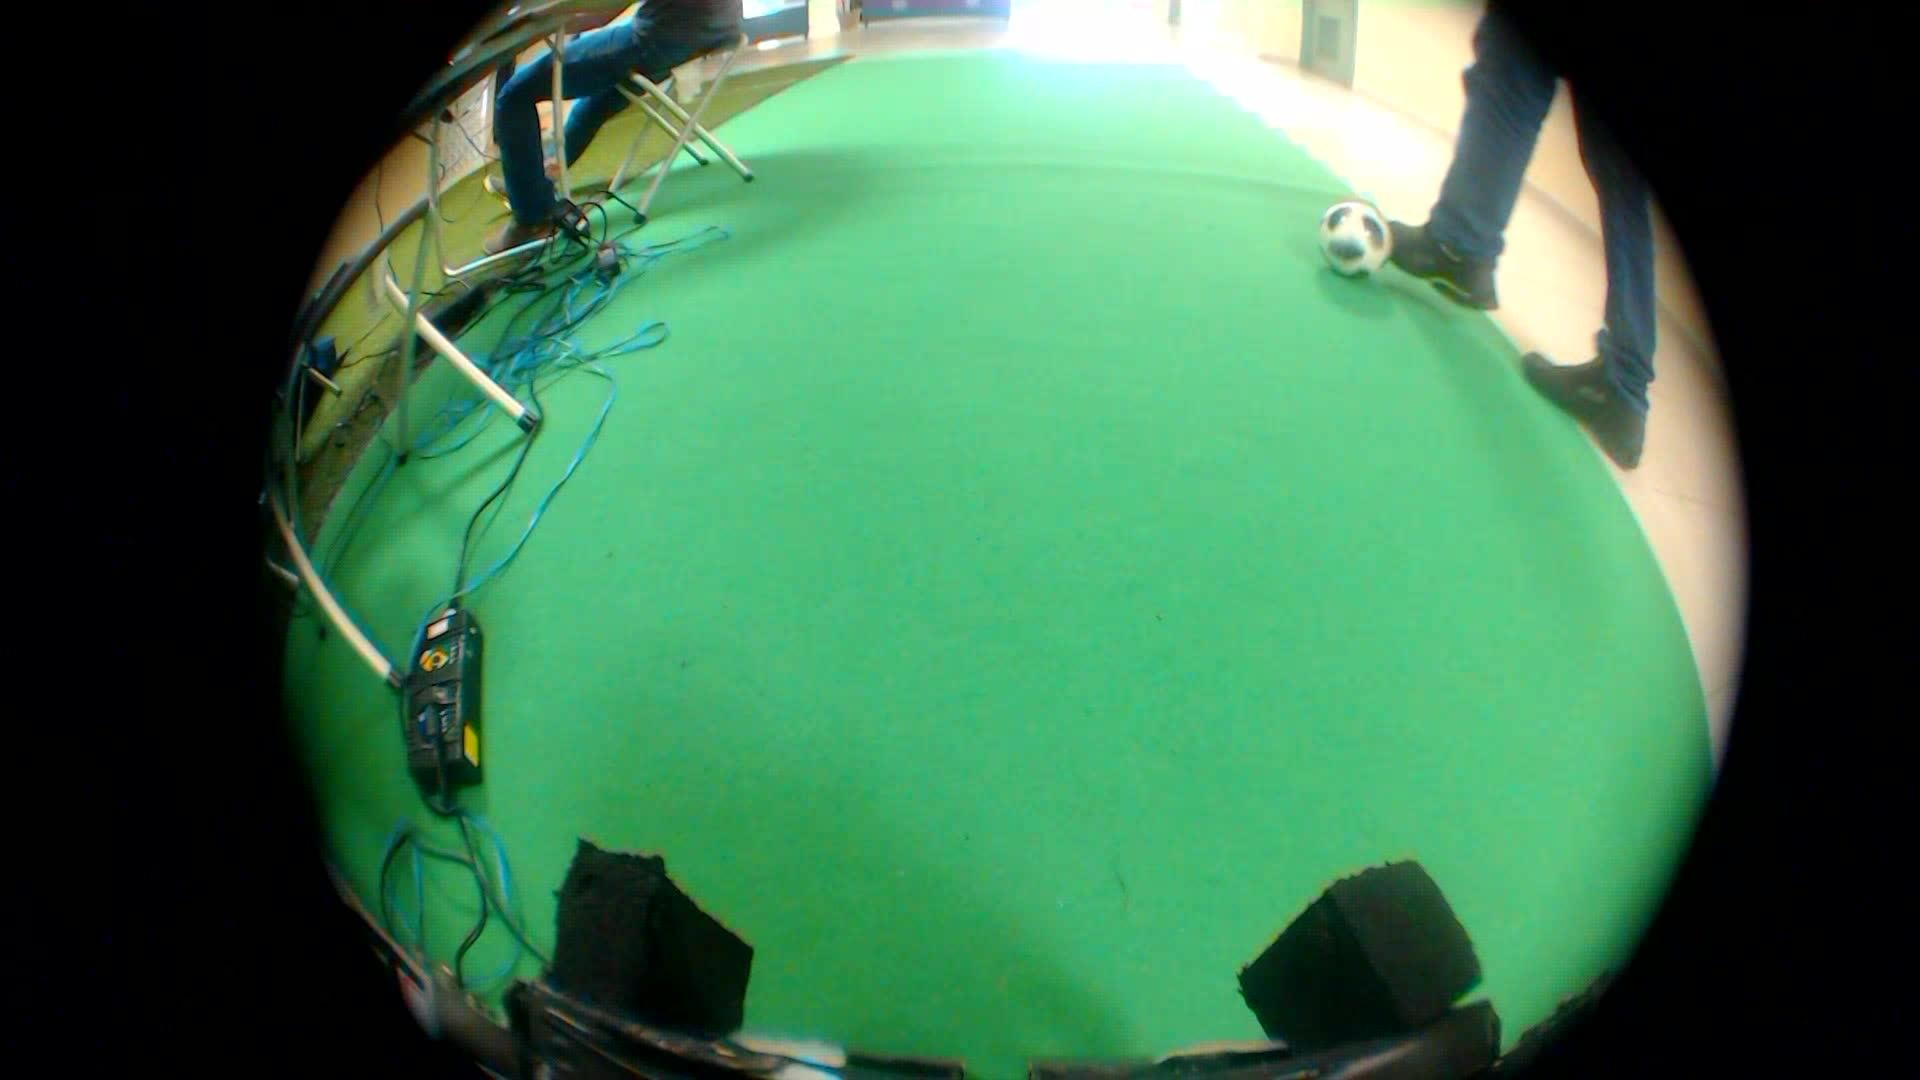ball: (1304, 186, 1393, 284)
